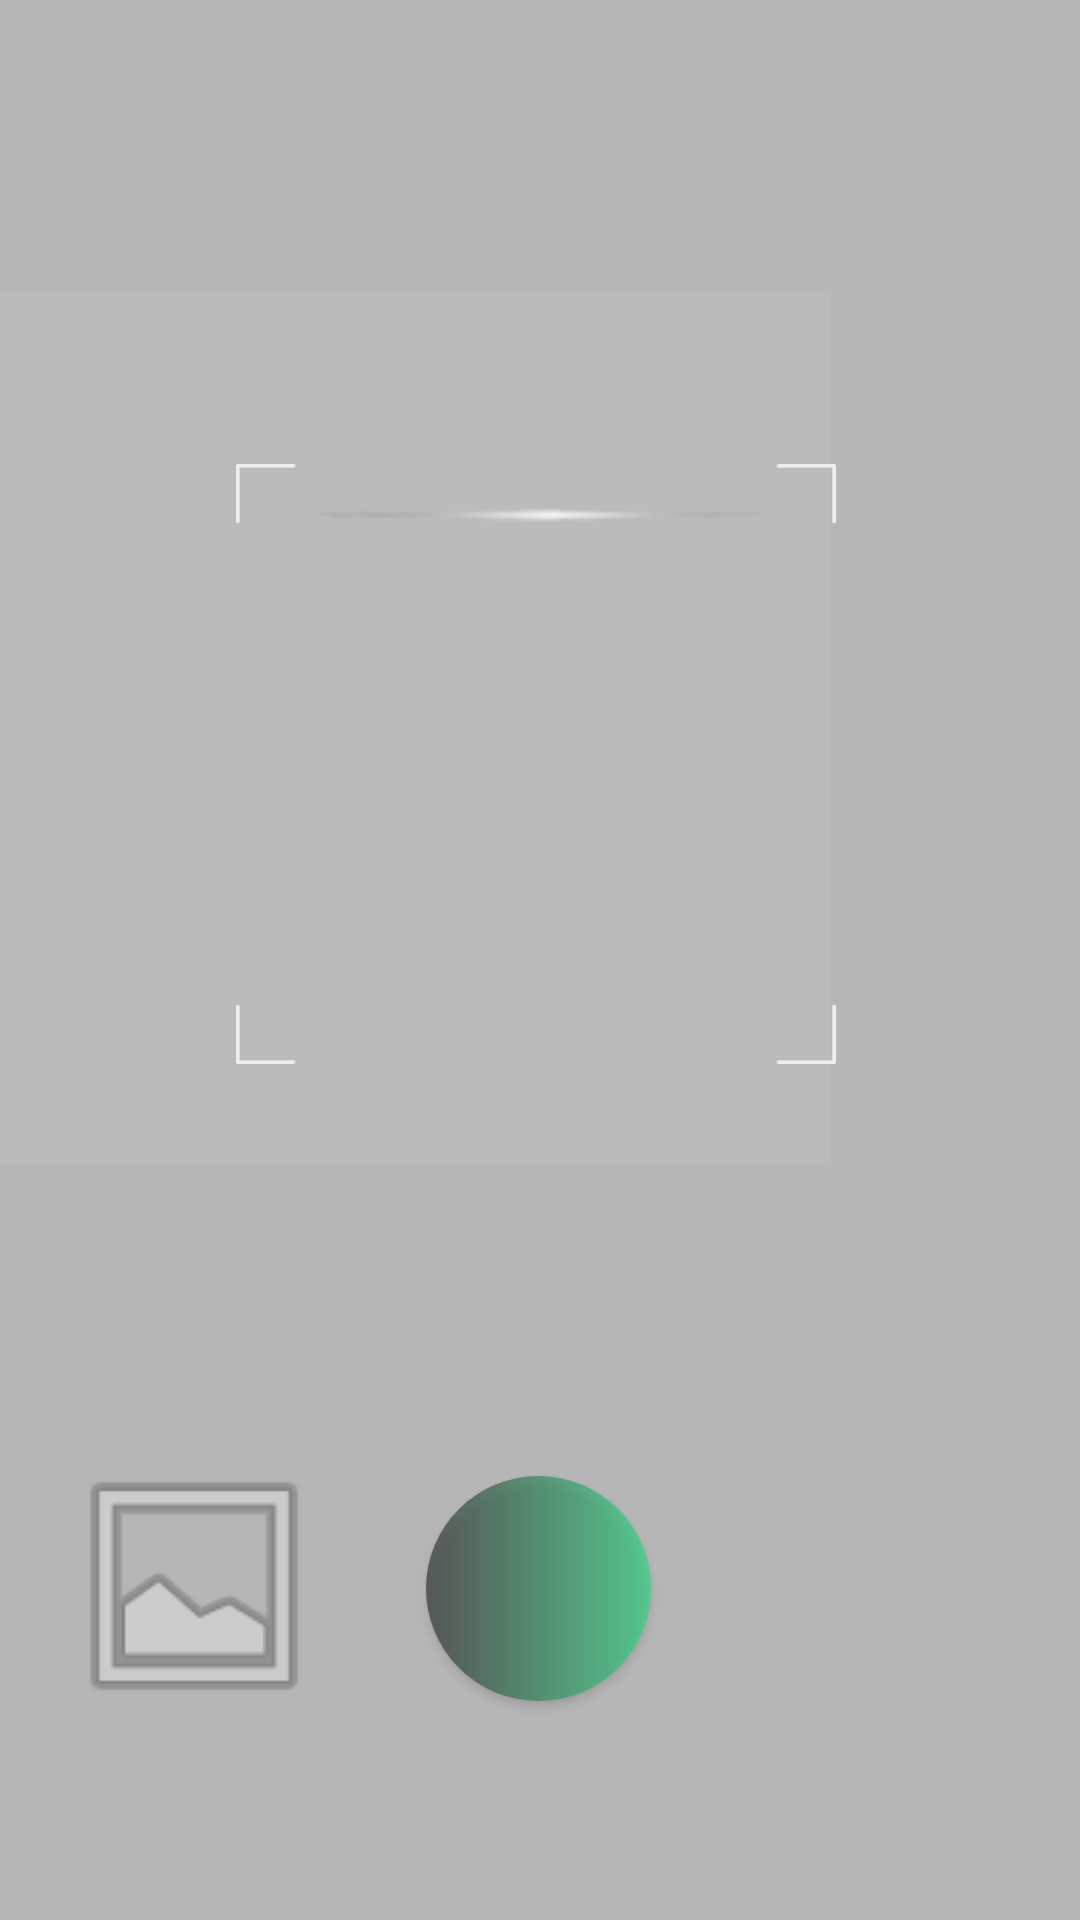

Named icons in this screenshot (1080px×1920px) and their centers, [x,y]:
gallery: [194,1586]
